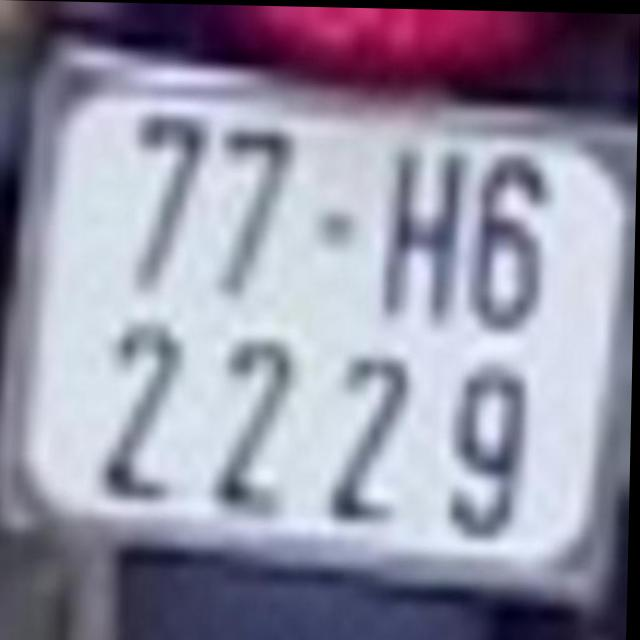2: (106, 320, 186, 491), (342, 350, 414, 523), (225, 345, 293, 523)
6: (482, 147, 545, 331)
7: (135, 111, 207, 294), (218, 120, 291, 294)
9: (451, 359, 525, 534)
H: (387, 138, 460, 328)
